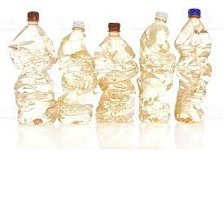bottle: (5, 9, 57, 130), (52, 18, 98, 134), (92, 20, 139, 126), (135, 8, 177, 125), (173, 7, 212, 127)
